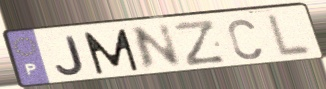C: (226, 17, 264, 62)
J: (54, 35, 87, 77)
L: (265, 12, 315, 60)
M: (81, 27, 142, 77)
N: (130, 22, 185, 74)
Z: (171, 19, 229, 69)
